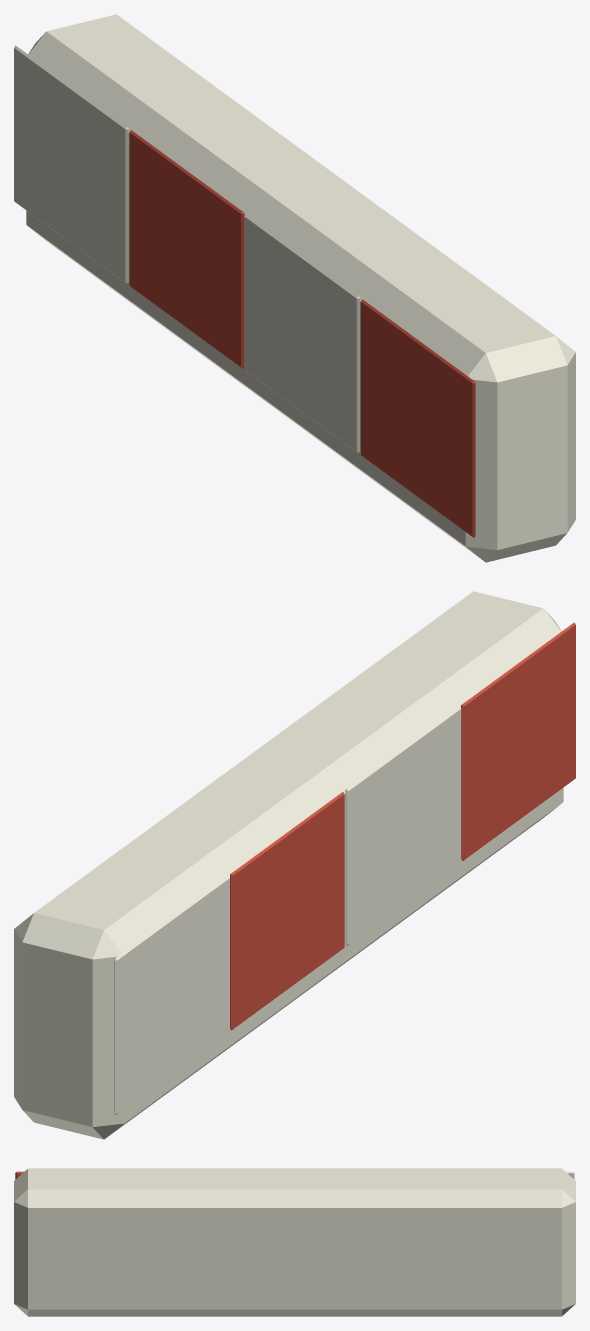
Rendered from ENV_Circuit_PitWall_4m.glb.
3 views of the same model, one above another, from view 1: azimuth 30°, elevation 25°; view 2: azimuth 150°, elevation 25°; view 3: azimuth 270°, elevation 25° (orthographic). The views are drawn at different scales.
Parts seen in each view (by area): view 1: ENV_Circuit_PitWall_4m; view 2: ENV_Circuit_PitWall_4m; view 3: ENV_Circuit_PitWall_4m.
Part boxes in pixels (x1,y1,x2,y2): ENV_Circuit_PitWall_4m: [14, 14, 575, 562]; ENV_Circuit_PitWall_4m: [14, 591, 575, 1139]; ENV_Circuit_PitWall_4m: [14, 1168, 575, 1316].
Bounding box in the file's own units: 0.565 × 1 × 4.
